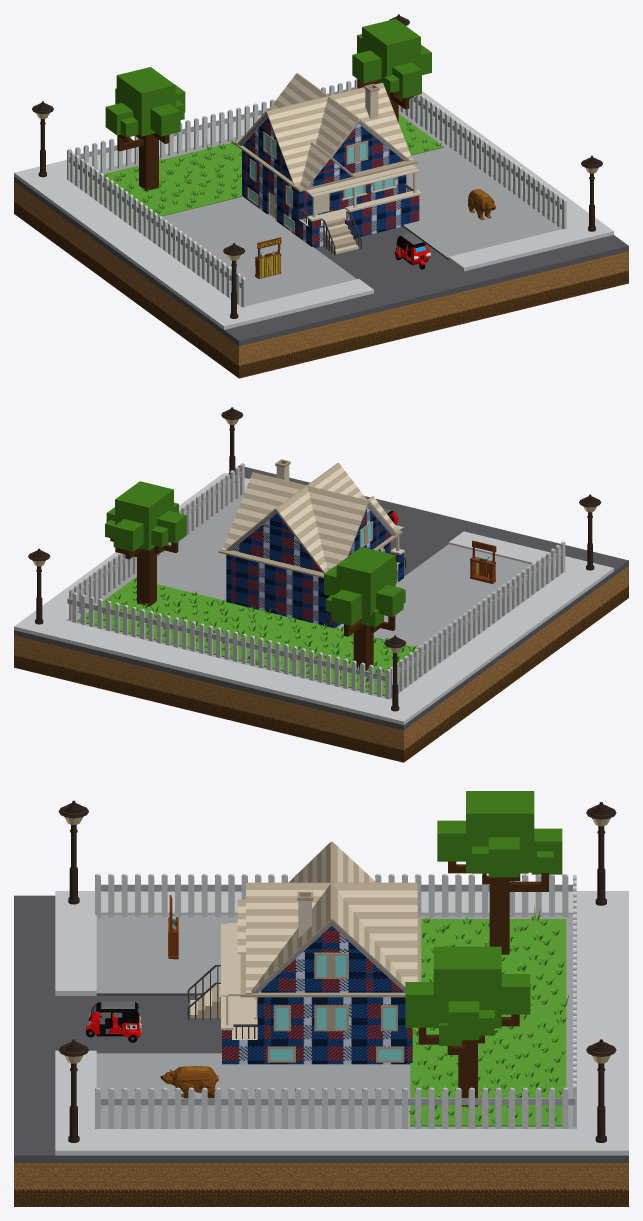
The picture shows the model from 3 angles, top to bottom: view 1: azimuth 30°, elevation 25°; view 2: azimuth 150°, elevation 25°; view 3: azimuth 270°, elevation 25°; orthographic projection. The views are drawn at different scales.
Visible parts, largest first — view 1: Cube.004, Cube.171, VEHICLES_TUC_TUC, OBJRANDOM_LEMONADE_STAND, ANIMAL_OSO; view 2: Cube.004, Cube.171, OBJRANDOM_LEMONADE_STAND; view 3: Cube.004, Cube.171, VEHICLES_TUC_TUC, ANIMAL_OSO.
Boxes of the visible parts, x1,y1,x2,y2 form: Cube.004: (14, 14, 628, 378); Cube.171: (233, 73, 422, 255); VEHICLES_TUC_TUC: (394, 233, 430, 269); OBJRANDOM_LEMONADE_STAND: (255, 237, 281, 278); ANIMAL_OSO: (468, 189, 495, 219); Cube.004: (14, 407, 628, 762); Cube.171: (218, 459, 406, 627); OBJRANDOM_LEMONADE_STAND: (470, 540, 496, 583); Cube.004: (14, 791, 628, 1206); Cube.171: (187, 841, 421, 1064); VEHICLES_TUC_TUC: (86, 1001, 141, 1042); ANIMAL_OSO: (160, 1066, 218, 1098).
Bounding box in the file's own units: 4000 × 1601 × 4000.
Materials: 41 (4 with a texture image).
